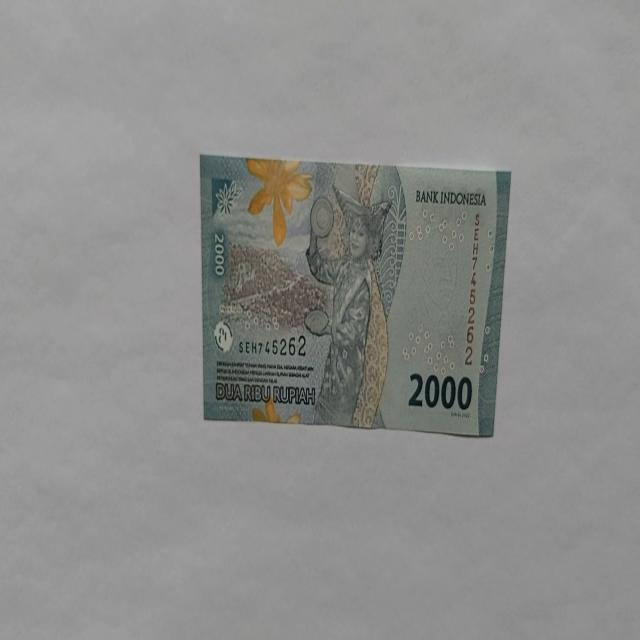dua ribu rupiah: (199, 154, 511, 436), (304, 184, 392, 428)
